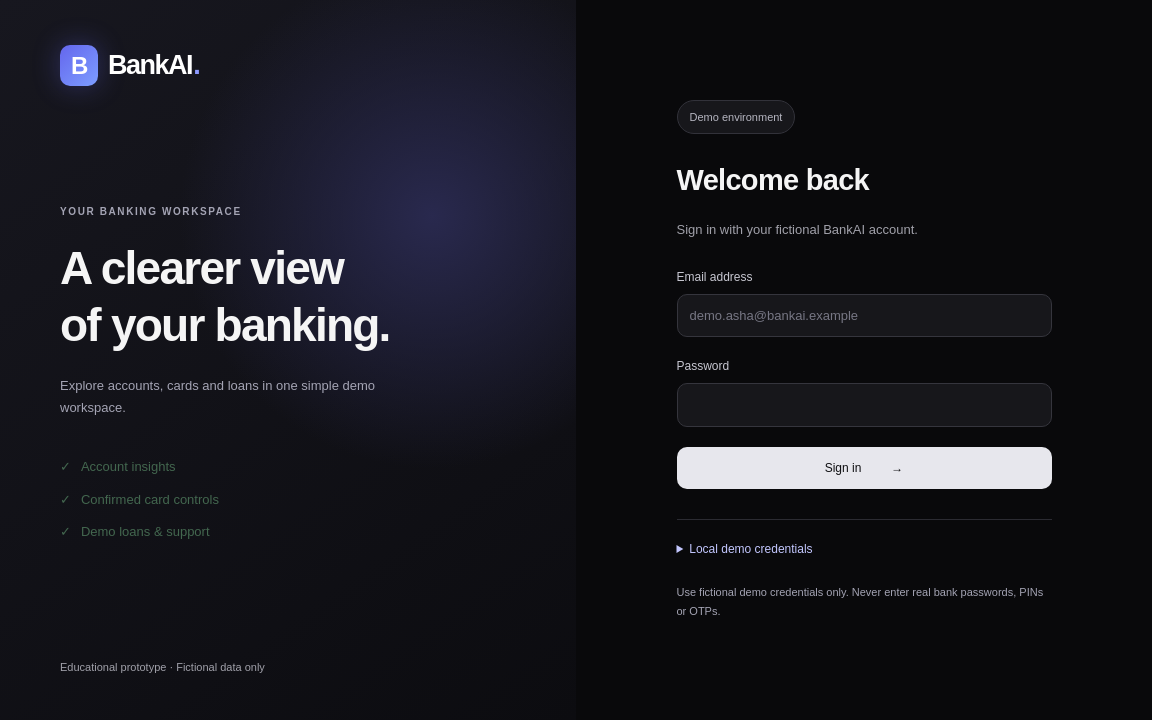
Test: failed login preserves a useful error and does not store a session
This screenshot has width=1152, height=720.
Type "demo.test@bankai.example" into the field labelled "Email address" at (864,316), box [676,294,1052,337]
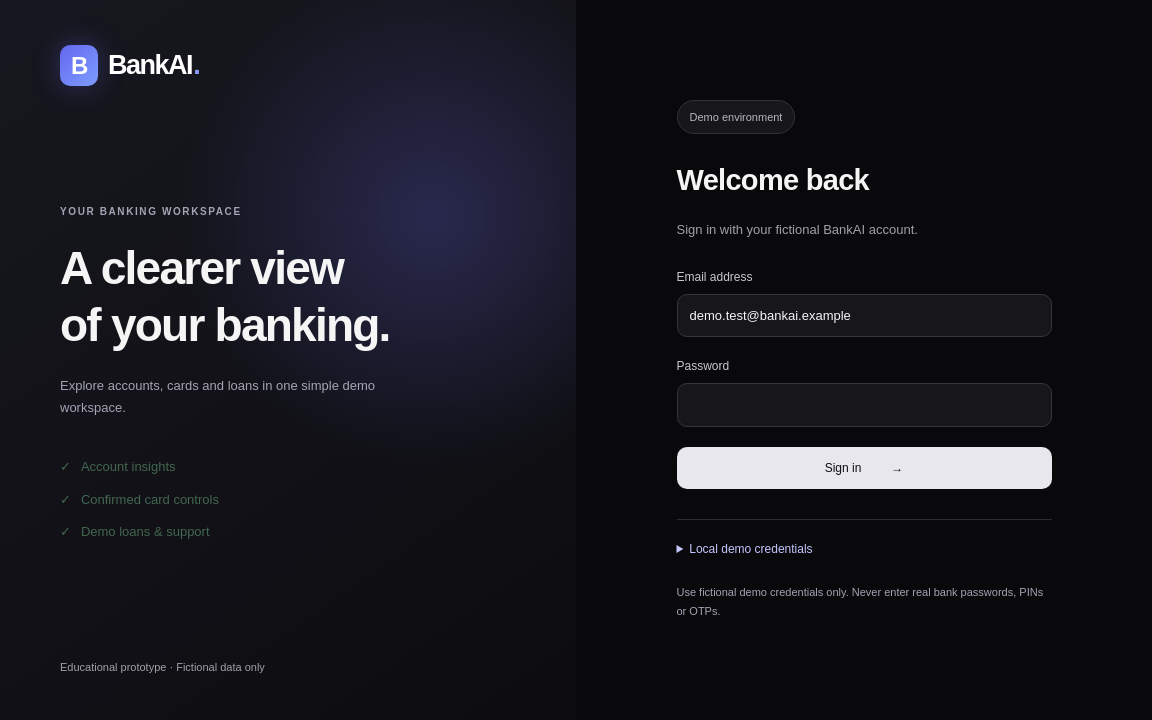
Type "wrong-password" into the password field labelled "Password" at (864,405), box [676,383,1052,427]
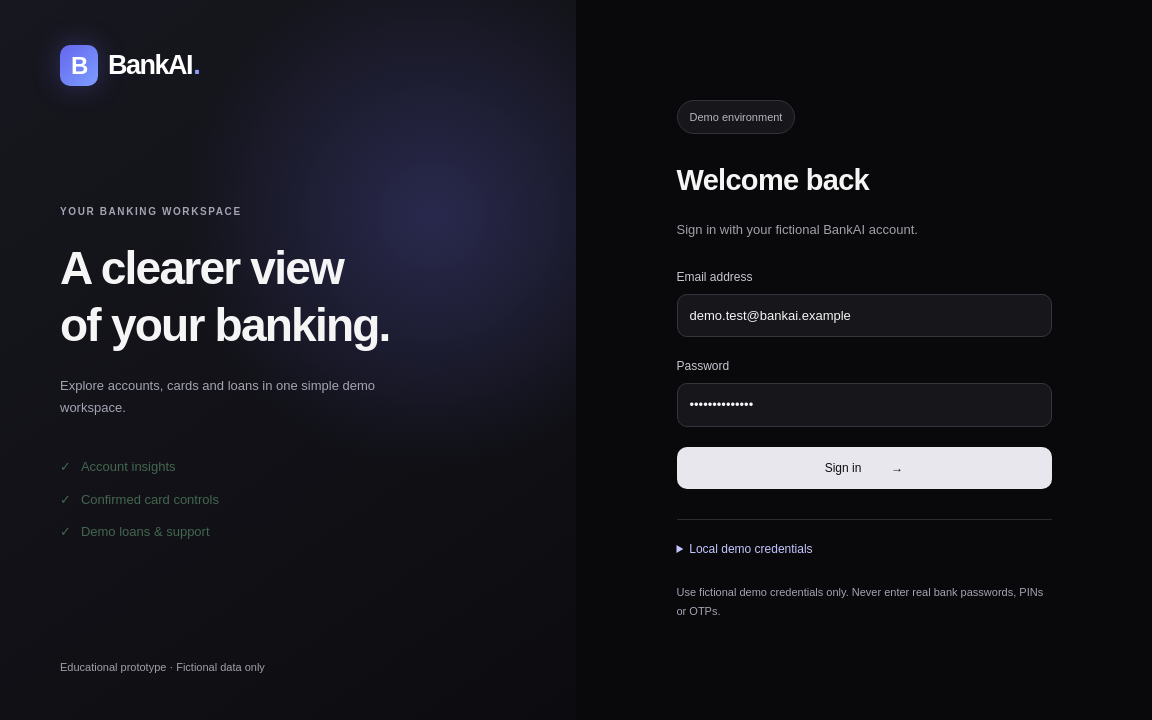
Click the button "Sign in →" at (864,468), box [676,447,1052,489]
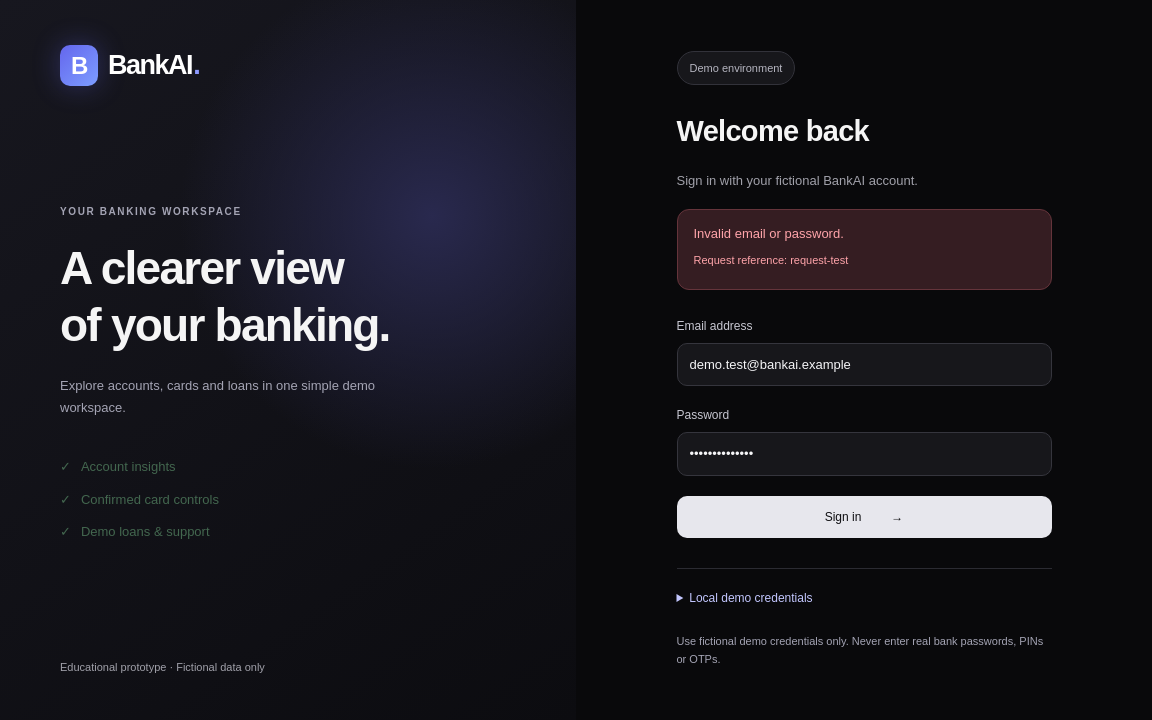
Expected: the message shows "Invalid email or password.", [694,226,844,241]
